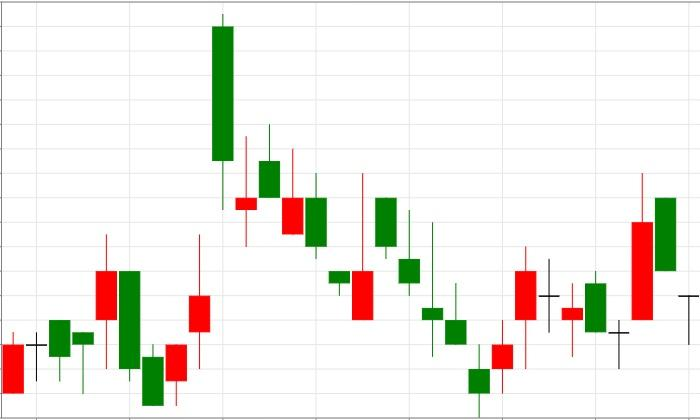inverse_hammer_rise: (259, 123, 373, 320)
